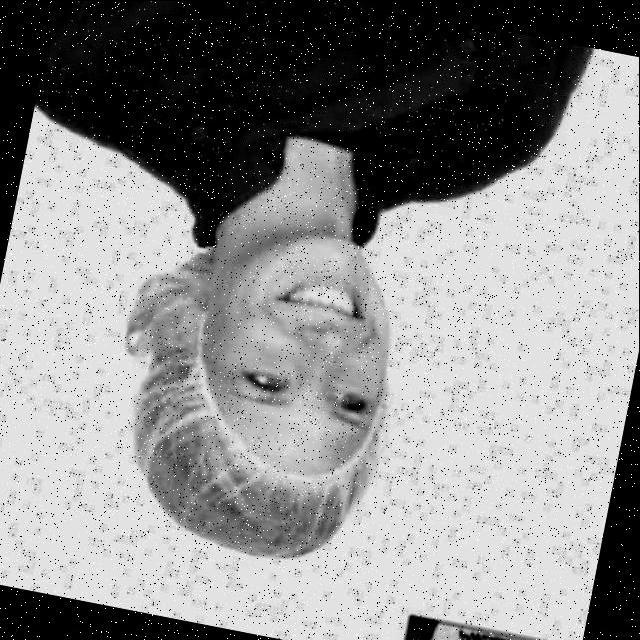no_hairnet: (216, 234, 394, 374)
